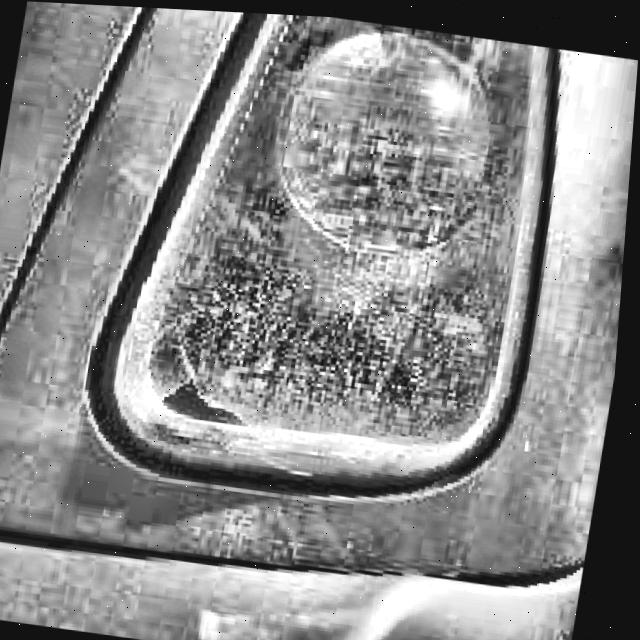tail_lamp: (125, 368, 282, 462)
